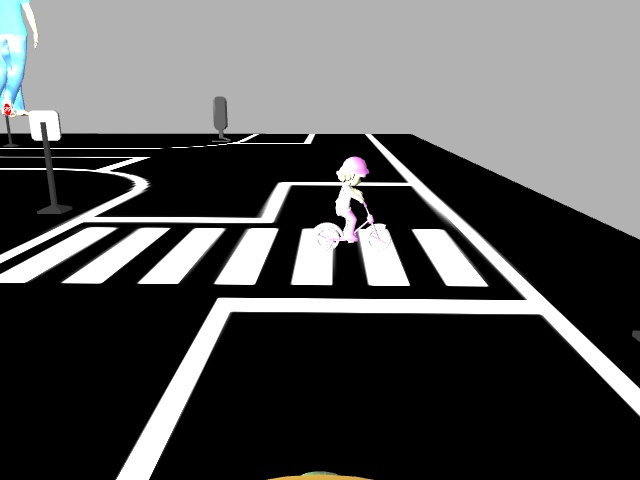Pedestrian: (315, 151, 394, 255)
